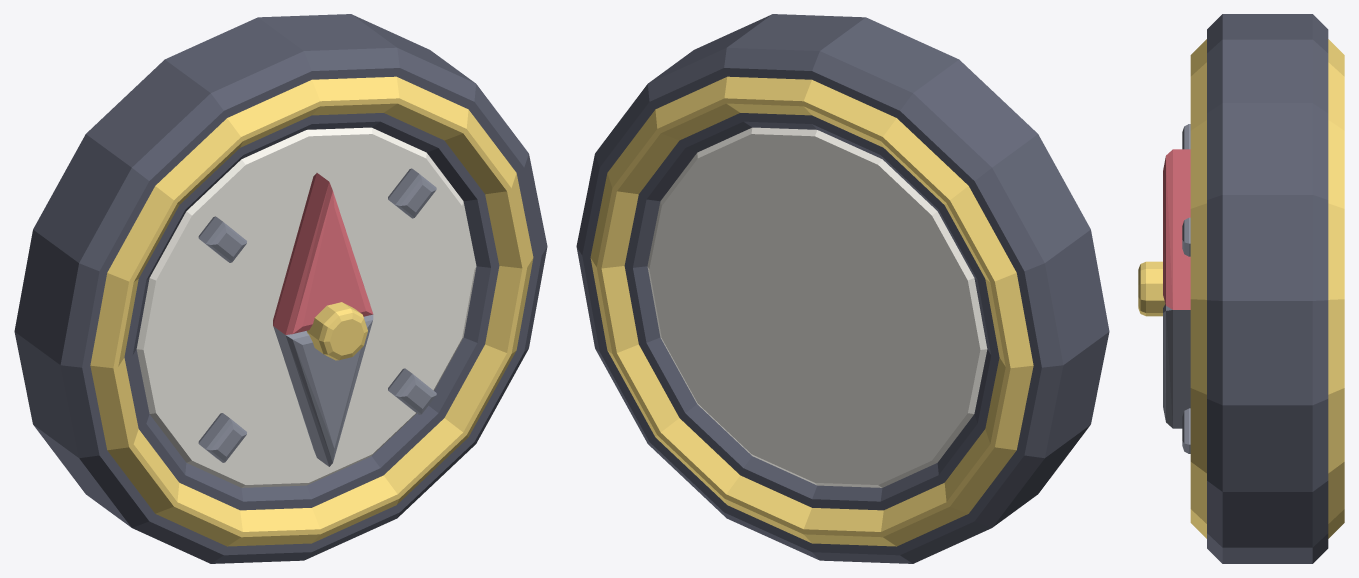
The model's file is game-ui-icon-library-compass-bd445006__19009.glb.
3 renders of one model, left to right at view 1: azimuth 30°, elevation 25°; view 2: azimuth 150°, elevation 25°; view 3: azimuth 270°, elevation 25°, orthographic. The views are drawn at different scales.
Parts seen in each view (by area): view 1: compass; view 2: compass; view 3: compass.
Part boxes in pixels (left/top/right/bottom): compass: left=14, top=14, right=547, bottom=563; compass: left=576, top=14, right=1109, bottom=563; compass: left=1138, top=14, right=1344, bottom=563.
Bounding box in the file's own units: 0.94 × 0.94 × 0.3525.
